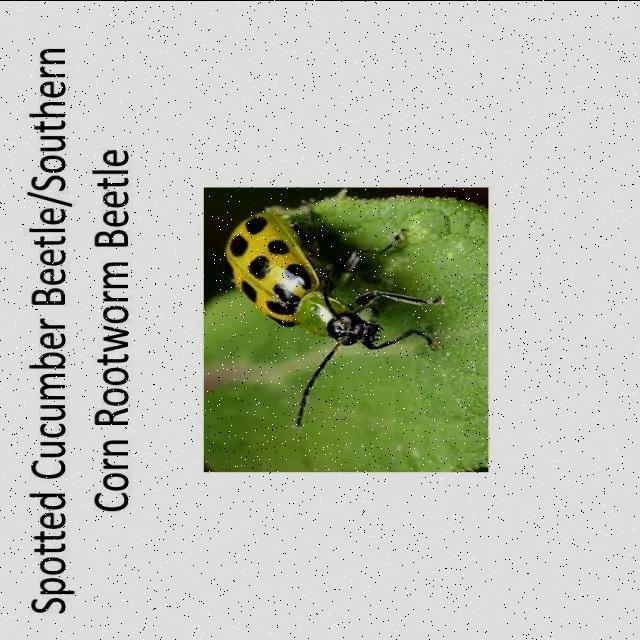gusano_verde: (222, 190, 428, 424)
